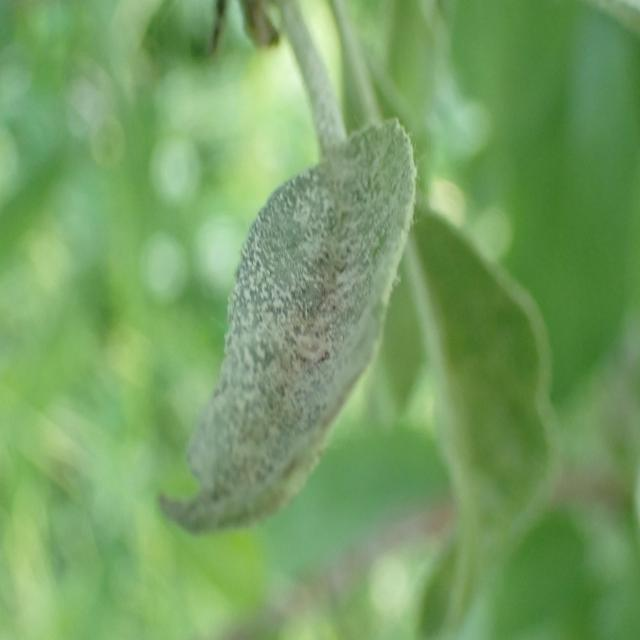Powdery_mildew: (154, 93, 428, 546)
